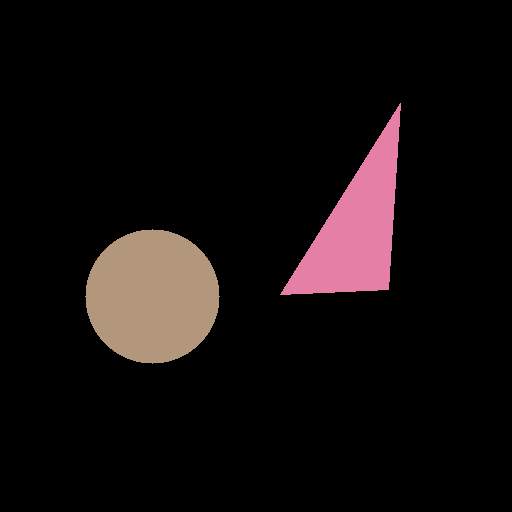circle: (85, 229, 219, 363)
triangle: (280, 103, 400, 294)
